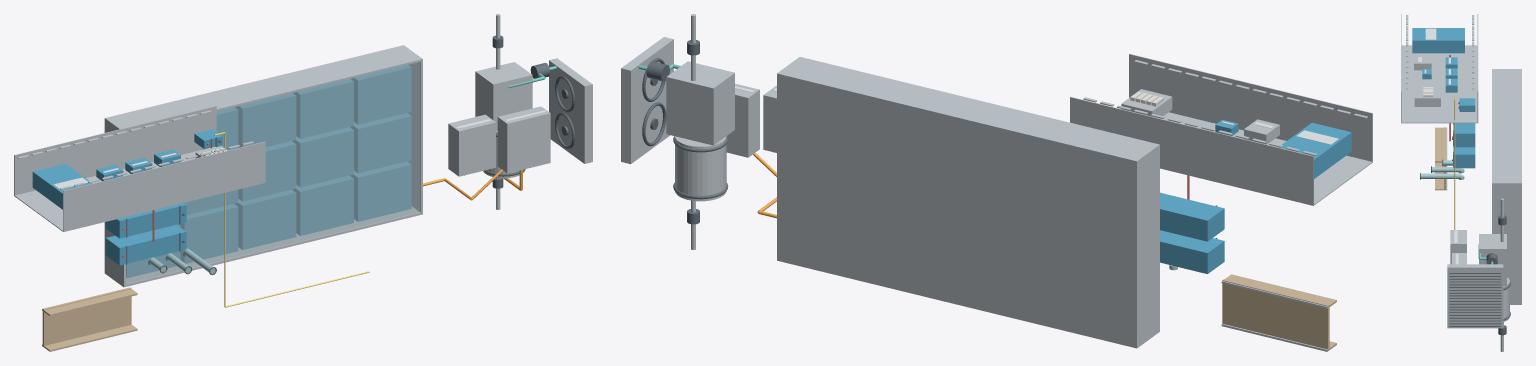
File: tracao_e_servicos.glb
3 renders of one model, left to right at view 1: azimuth 30°, elevation 25°; view 2: azimuth 150°, elevation 25°; view 3: azimuth 270°, elevation 25°, orthographic. The views are drawn at different scales.
Parts seen in each view (by area): view 1: pack_tracao__20_tampa_translucida, armario_tecnico__149_teto_termico, armario_tecnico__150_bandeja, pack_tracao__2_parede, radiador_tracao__44_envelope, inversor_tracao__26_envelope, garagem__179_gaveta_bagagem, pack_tracao__17_modulo_ilustrativo_4_0, pack_tracao__11_modulo_ilustrativo_2_0, pack_tracao__14_modulo_ilustrativo_3_0, pack_tracao__15_modulo_ilustrativo_3_1, pack_tracao__18_modulo_ilustrativo_4_1 (+20 smaller); view 2: pack_tracao__0_bandeja, armario_tecnico__150_bandeja, armario_tecnico__149_teto_termico, pack_tracao__2_parede, redutor__25_envelope, garagem__179_gaveta_bagagem, radiador_tracao__44_envelope, pack_tracao__3_parede, motor_tracao__22_carcaca_motor, bateria_servicos_2__74_envelope, bateria_servicos_1__69_envelope, armario_tecnico__148_anteparo_lateral (+6 smaller); view 3: armario_tecnico__148_anteparo_lateral, radiador_tracao__44_envelope, pack_tracao__2_parede, pack_tracao__4_parede, inversor_servicos__79_envelope, redutor__25_envelope, pack_tracao__0_bandeja, bateria_servicos_2__74_envelope, bateria_servicos_1__69_envelope, quadro_ac_dc__138_envelope, carregador_oem__35_envelope, garagem__183_borda_gaveta (+17 smaller).
Boxes of the visible parts, bbox=[...] form: pack_tracao__20_tampa_translucida: bbox=[126, 62, 420, 284]; armario_tecnico__149_teto_termico: bbox=[63, 141, 265, 231]; armario_tecnico__150_bandeja: bbox=[14, 106, 216, 195]; pack_tracao__2_parede: bbox=[106, 46, 422, 129]; radiador_tracao__44_envelope: bbox=[549, 58, 592, 163]; inversor_tracao__26_envelope: bbox=[497, 106, 550, 173]; garagem__179_gaveta_bagagem: bbox=[42, 287, 131, 347]; pack_tracao__17_modulo_ilustrativo_4_0: bbox=[350, 161, 411, 221]; pack_tracao__11_modulo_ilustrativo_2_0: bbox=[235, 190, 295, 249]; pack_tracao__14_modulo_ilustrativo_3_0: bbox=[292, 176, 353, 235]; pack_tracao__15_modulo_ilustrativo_3_1: bbox=[292, 127, 353, 186]; pack_tracao__18_modulo_ilustrativo_4_1: bbox=[350, 113, 411, 172]; pack_tracao__0_bandeja: bbox=[777, 72, 1138, 348]; armario_tecnico__150_bandeja: bbox=[1070, 97, 1313, 205]; armario_tecnico__149_teto_termico: bbox=[1129, 54, 1372, 162]; pack_tracao__2_parede: bbox=[779, 57, 1159, 162]; redutor__25_envelope: bbox=[666, 61, 734, 145]; garagem__179_gaveta_bagagem: bbox=[1222, 279, 1329, 350]; radiador_tracao__44_envelope: bbox=[621, 37, 673, 164]; pack_tracao__3_parede: bbox=[1139, 147, 1159, 344]; motor_tracao__22_carcaca_motor: bbox=[675, 136, 726, 201]; bateria_servicos_2__74_envelope: bbox=[1160, 192, 1224, 241]; bateria_servicos_1__69_envelope: bbox=[1160, 230, 1224, 273]; armario_tecnico__148_anteparo_lateral: bbox=[1120, 108, 1372, 205]; armario_tecnico__148_anteparo_lateral: bbox=[1401, 45, 1477, 123]; radiador_tracao__44_envelope: bbox=[1447, 264, 1503, 328]; pack_tracao__2_parede: bbox=[1492, 69, 1519, 184]; pack_tracao__4_parede: bbox=[1492, 185, 1519, 303]; inversor_servicos__79_envelope: bbox=[1412, 28, 1464, 53]; redutor__25_envelope: bbox=[1479, 234, 1506, 285]; pack_tracao__0_bandeja: bbox=[1519, 69, 1521, 304]; bateria_servicos_2__74_envelope: bbox=[1453, 123, 1475, 147]; bateria_servicos_1__69_envelope: bbox=[1453, 147, 1475, 168]; quadro_ac_dc__138_envelope: bbox=[1414, 88, 1440, 106]; carregador_oem__35_envelope: bbox=[1450, 230, 1466, 264]; garagem__183_borda_gaveta: bbox=[1435, 127, 1443, 162].
Size of the model in its own units: 5.43 by 1.82 by 1.3.
